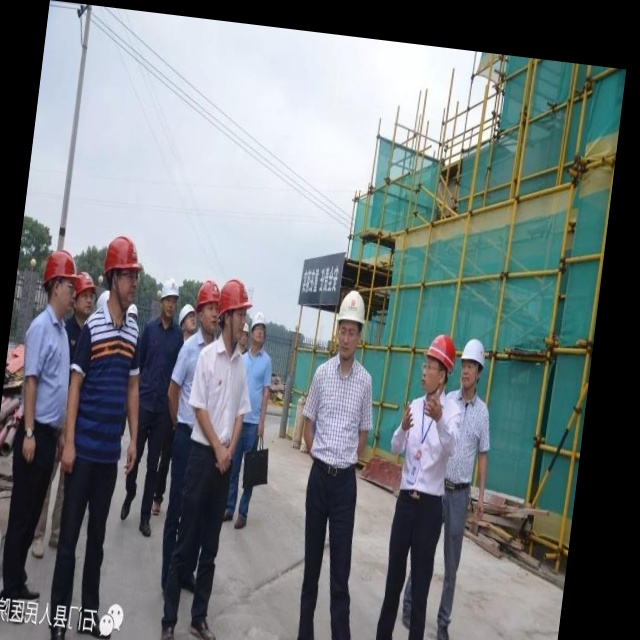Con_Casco: (333, 288, 368, 363), (418, 333, 458, 398)
Sin_Chaleco: (67, 313, 140, 463), (306, 361, 373, 470), (188, 343, 246, 451)
